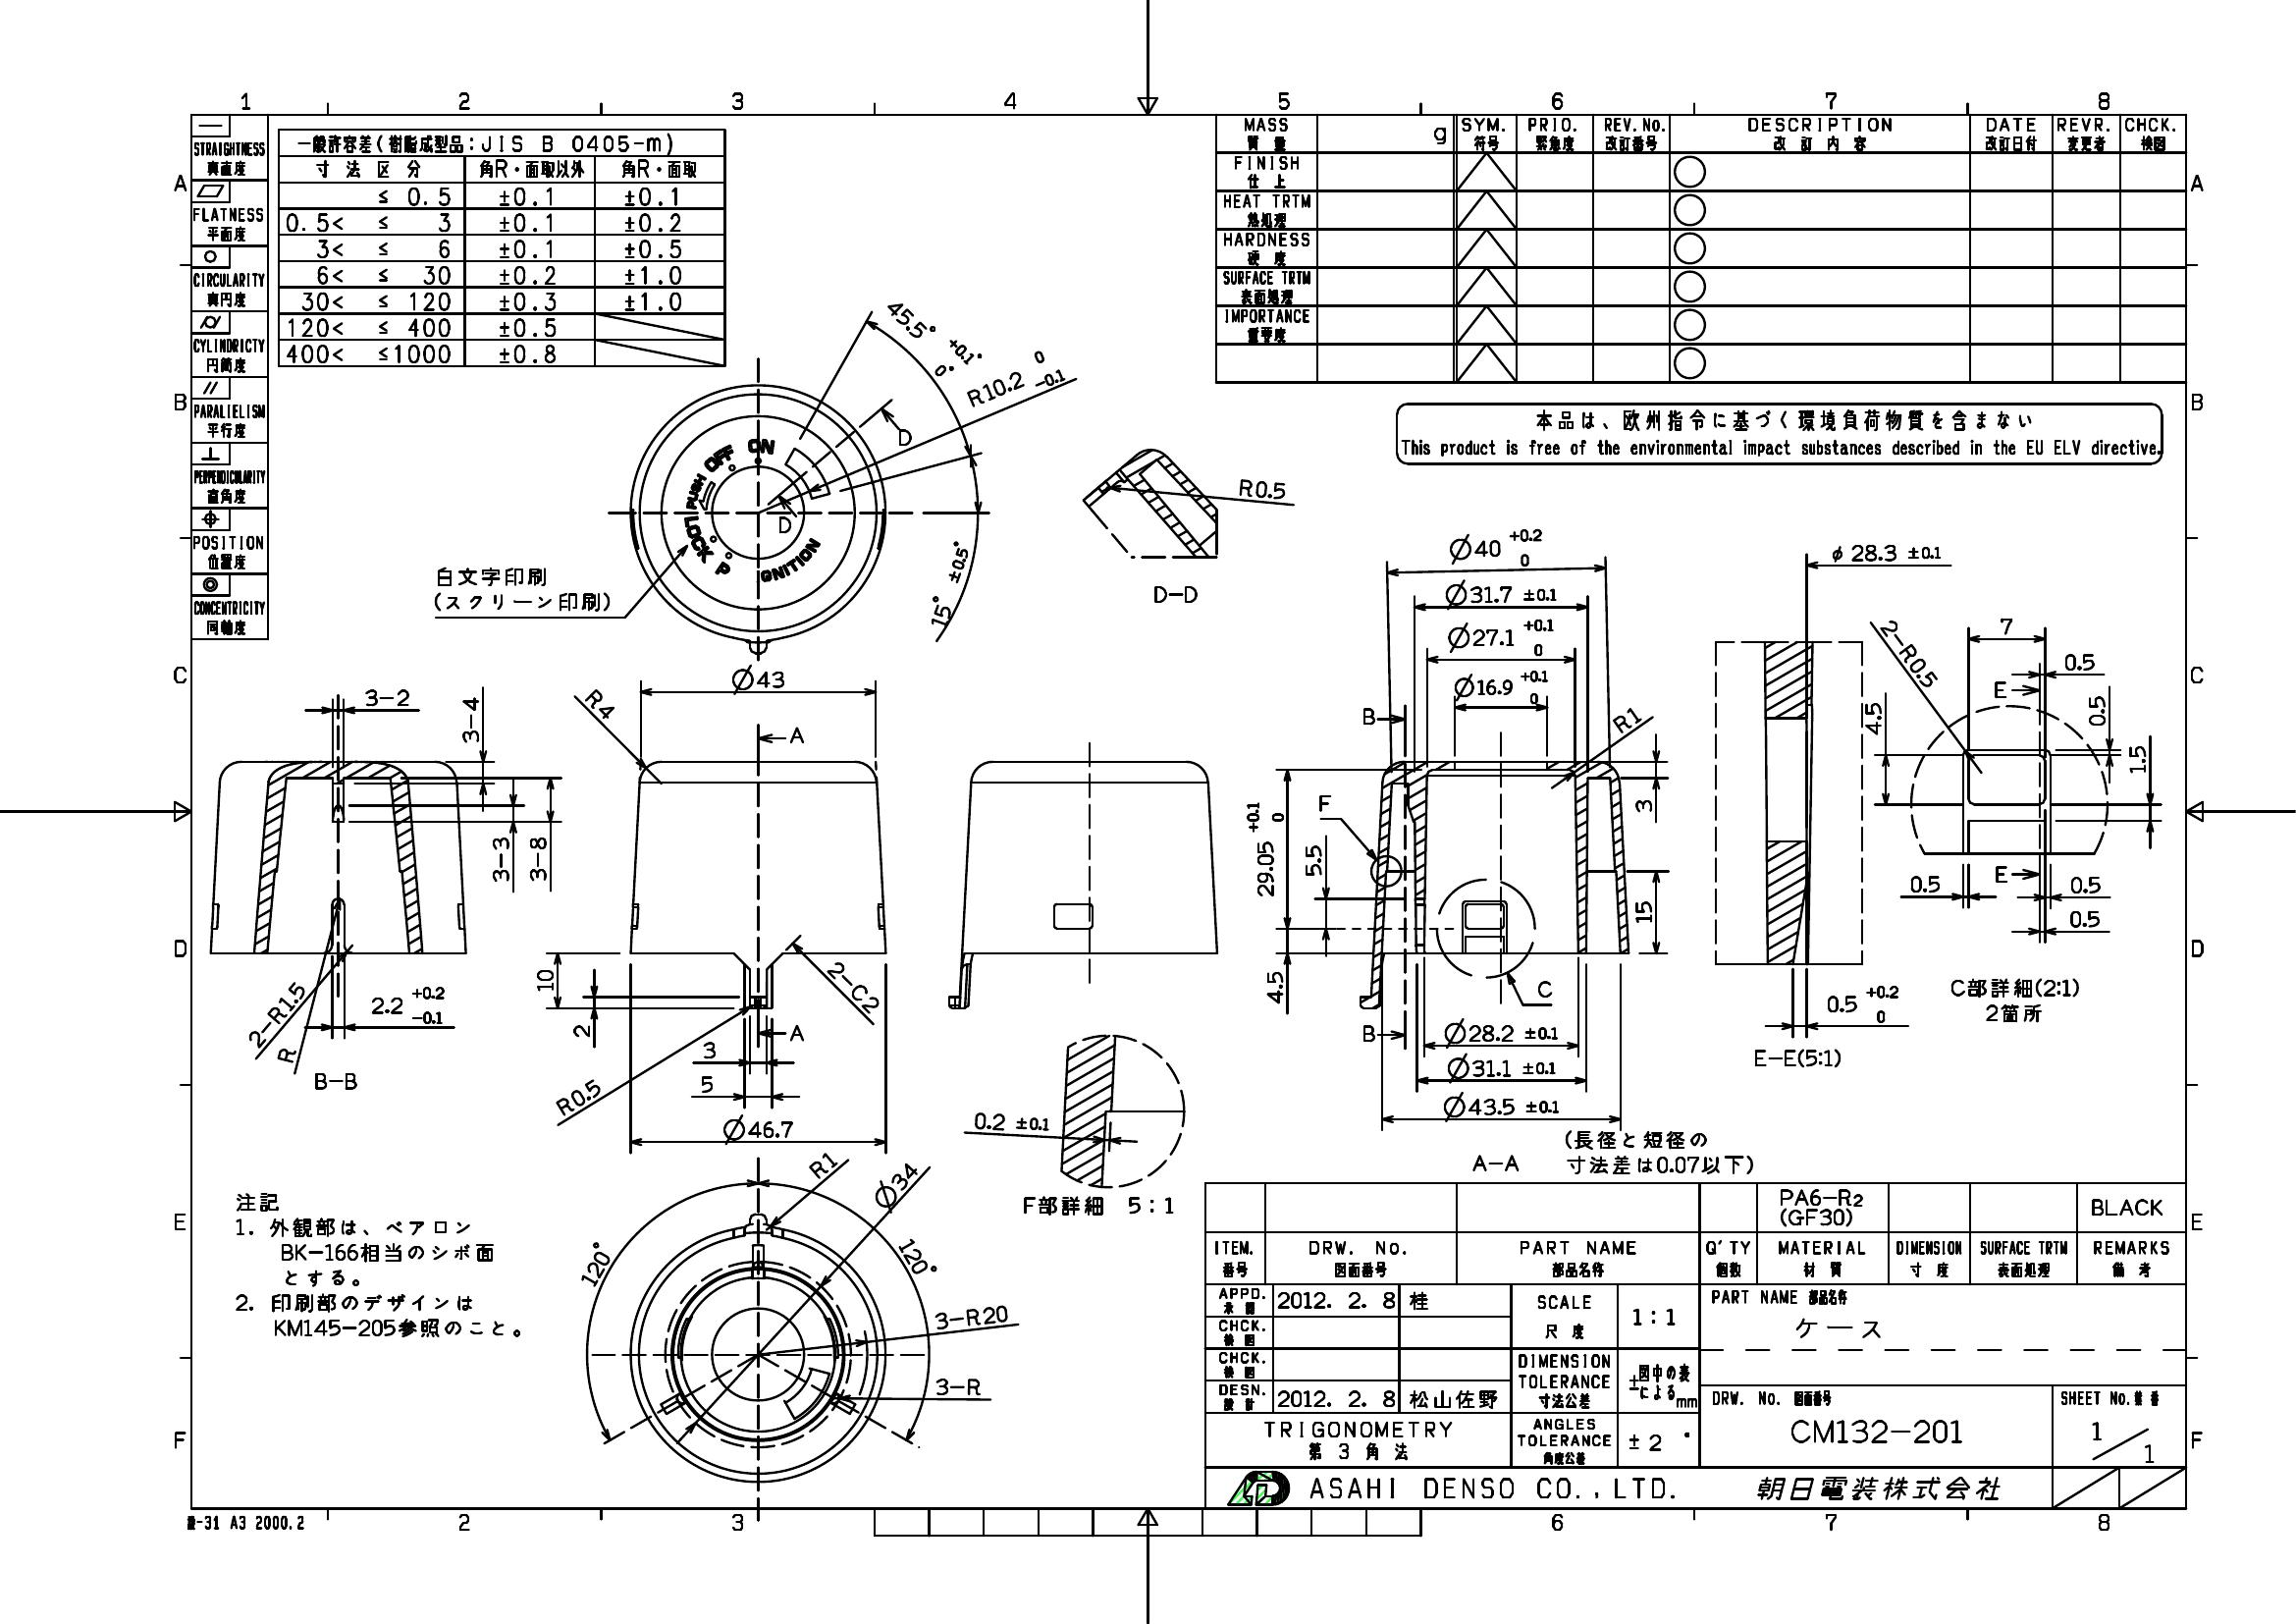anntotation_text: (1393, 401, 2164, 466), (230, 1192, 522, 1338), (1560, 1127, 1755, 1179), (430, 564, 611, 613), (1019, 1193, 1177, 1218), (1948, 977, 2082, 1000), (1750, 1044, 1841, 1072), (186, 1513, 306, 1531), (1983, 1000, 2041, 1025), (1467, 1151, 1523, 1174), (1152, 582, 1198, 605), (313, 1070, 358, 1091), (783, 722, 806, 747), (1534, 977, 1556, 1000), (1316, 789, 1333, 814), (1992, 863, 2010, 886), (1990, 680, 2010, 700), (789, 1021, 806, 1042), (896, 427, 913, 448), (1360, 1023, 1375, 1046), (1358, 707, 1375, 726)
dimension_text: (875, 311, 986, 360), (1448, 615, 1555, 661), (959, 359, 1068, 401), (1242, 798, 1286, 902), (1448, 524, 1544, 568), (1451, 666, 1549, 707), (371, 984, 446, 1028), (1442, 576, 1556, 605), (1825, 982, 1901, 1025), (1442, 1018, 1562, 1044), (1440, 1095, 1562, 1118), (1446, 1056, 1558, 1081), (1832, 540, 1941, 564), (899, 573, 998, 598), (720, 1113, 799, 1141), (1869, 640, 1952, 664), (971, 1111, 1054, 1135), (933, 1304, 1008, 1329), (863, 1169, 924, 1199), (820, 974, 889, 1000), (237, 1002, 314, 1025), (729, 666, 787, 691), (1235, 478, 1289, 503), (933, 1374, 982, 1399), (553, 1086, 604, 1109), (573, 1251, 615, 1278), (896, 1244, 936, 1271), (362, 687, 411, 708), (2064, 870, 2105, 895), (580, 692, 620, 715), (460, 698, 480, 745), (2085, 691, 2110, 728), (805, 1155, 843, 1178), (490, 835, 508, 884), (2068, 907, 2103, 932), (1300, 840, 1323, 877), (529, 835, 546, 882), (2126, 743, 2150, 777), (1265, 968, 1286, 1004), (1611, 708, 1643, 731), (1910, 872, 1941, 895), (1864, 701, 1883, 735), (2064, 650, 2094, 671), (1634, 898, 1655, 926), (534, 967, 555, 993), (276, 1048, 297, 1069), (1997, 615, 2017, 636), (1632, 798, 1655, 816), (699, 1039, 717, 1060), (571, 1023, 592, 1039), (699, 1074, 713, 1093)
object: (627, 381, 887, 656), (627, 1211, 887, 1483), (1358, 758, 1632, 1012), (947, 758, 1221, 1009), (627, 758, 889, 1011), (209, 759, 469, 956), (1059, 1035, 1184, 1190), (1762, 640, 1815, 967), (1080, 446, 1219, 559), (1960, 749, 2054, 856)
title_block: (1203, 1179, 2189, 1512), (1210, 111, 2189, 387), (276, 127, 727, 367), (188, 112, 271, 643)
